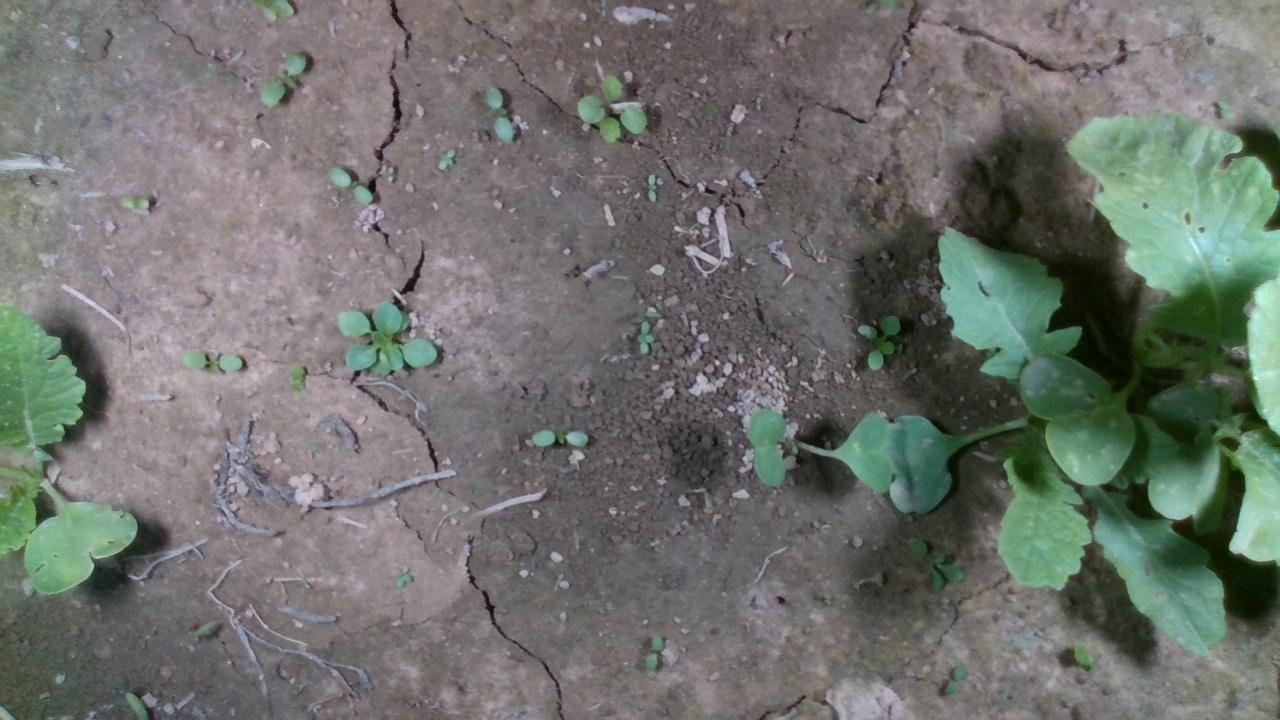weed: (573, 71, 649, 142), (258, 49, 309, 108), (854, 313, 900, 369), (483, 84, 514, 143), (327, 165, 372, 203), (179, 349, 244, 373), (526, 428, 588, 446), (632, 317, 654, 356), (286, 363, 305, 392), (435, 147, 455, 171), (119, 194, 150, 208)
